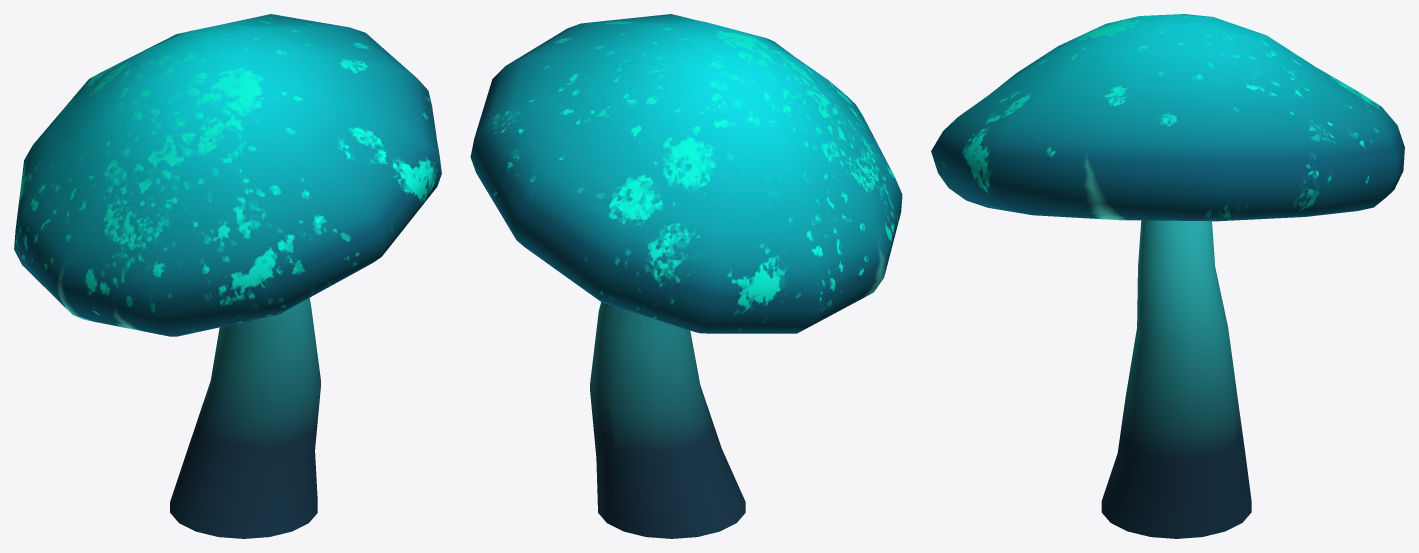
File: Mushroom_02.fbx
3 renders of one model, left to right at view 1: azimuth 30°, elevation 25°; view 2: azimuth 150°, elevation 25°; view 3: azimuth 270°, elevation 25°, orthographic.
Parts seen in each view (by area): view 1: Cylinder008; view 2: Cylinder008; view 3: Cylinder008.
Boxes of the visible parts, box(x1,y1,x2,y2) form: Cylinder008: box(14, 14, 441, 538); Cylinder008: box(470, 14, 902, 538); Cylinder008: box(931, 14, 1404, 538).
Bounding box in the file's own units: 4.68 × 5.28 × 5.81.
